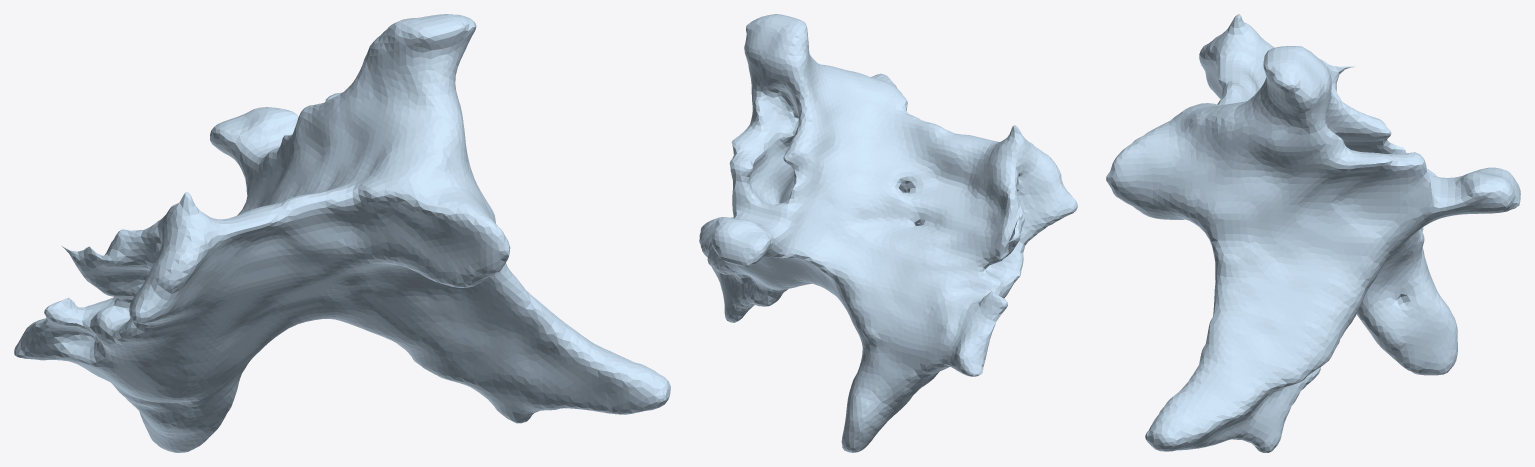
The model's file is Darch5.glb.
The picture shows the model from 3 angles, left to right: view 1: azimuth 30°, elevation 25°; view 2: azimuth 150°, elevation 25°; view 3: azimuth 270°, elevation 25°; orthographic projection. The views are drawn at different scales.
Visible parts, largest first — view 1: Darch5; view 2: Darch5; view 3: Darch5.
Part boxes in pixels (x1,y1,x2,y2): Darch5: (14,14,670,452); Darch5: (699,14,1077,452); Darch5: (1106,14,1520,452).
Size of the model in its own units: 0.00541 by 0.00456 by 0.00433.
